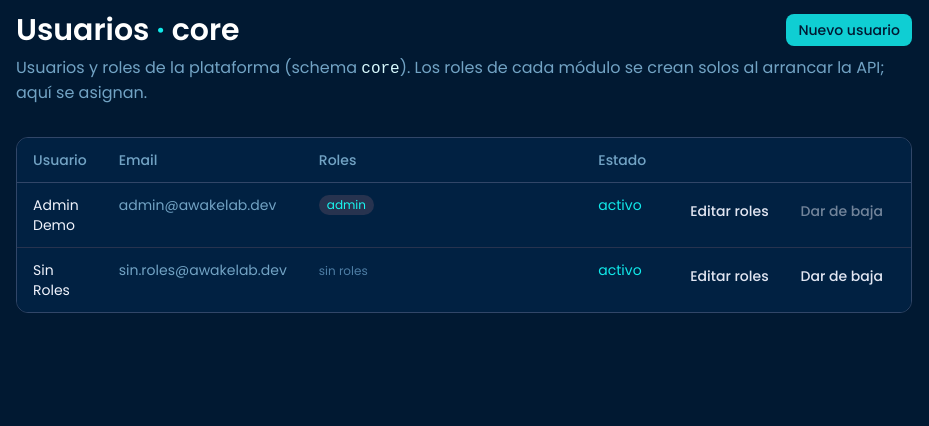
Test: UsersPage (asignación de roles sin SQL — incremento D, bloque 2) › asigna los roles de un módulo generado y avisa de que hace falta volver a entrar
Expected: the table with test id "users-table" is shown, [17,138,911,312]
Click the button "Editar roles" in the row of "sin.roles@awakelab.dev": (730, 276) [678,260,781,292]
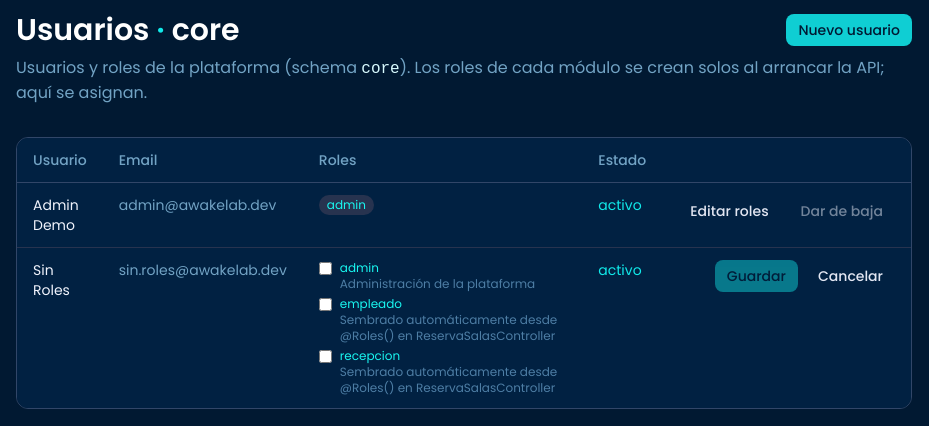
Now the element with test id "roles-editor-u-2" is shown, box [319,260,566,396]
Now the button "Guardar" is disabled, box [715,260,798,292]
Click the checkbox labelled "empleado": (325, 304) [319,298,332,311]
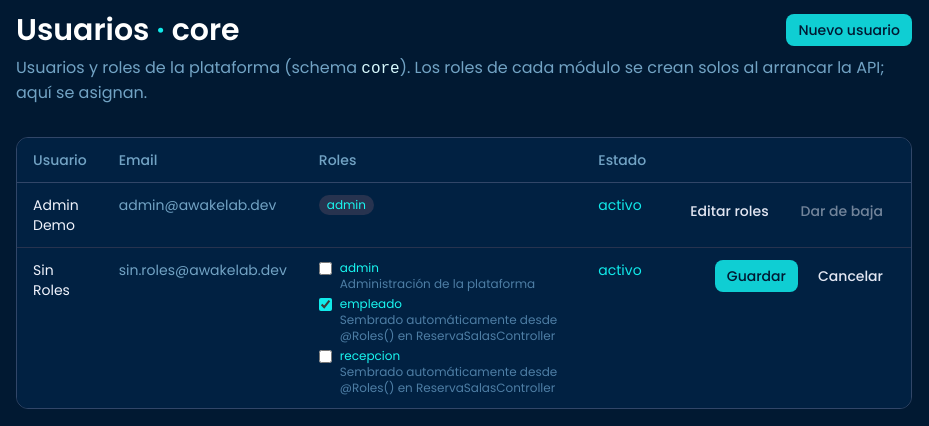
Click the checkbox labelled "recepcion": (325, 356) [319,350,332,363]
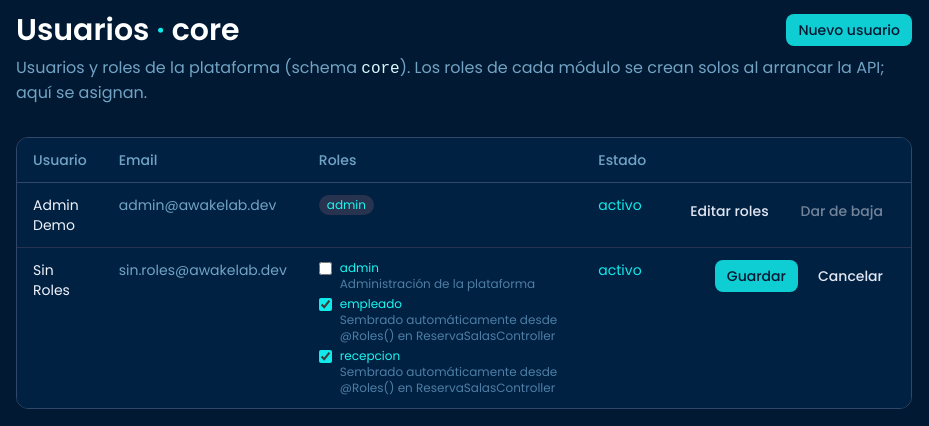
Click the button "Guardar": (756, 276) [715,260,798,292]
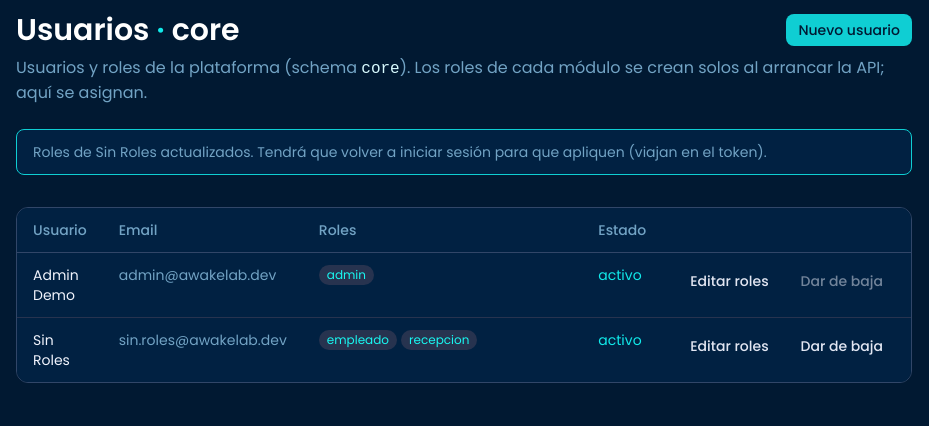
Now the message with test id "roles-notice" shows "volver a iniciar sesión", box [33,142,767,162]
